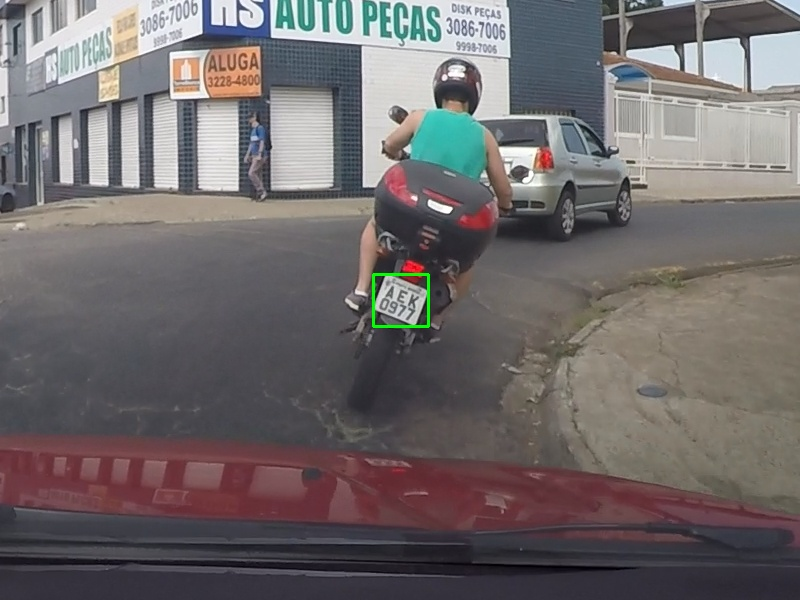placa: (373, 274, 428, 326)
